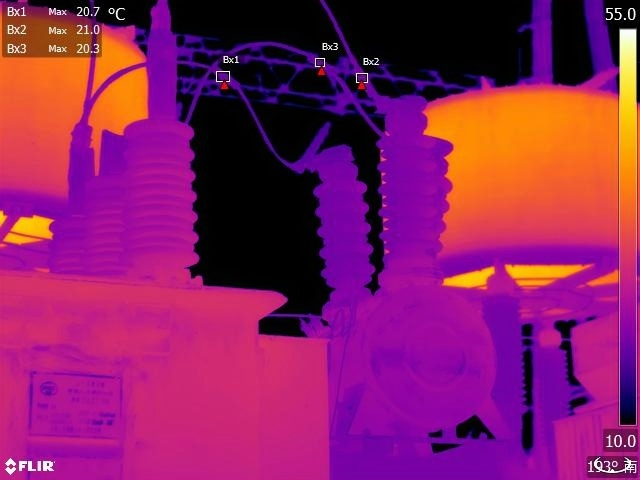capacitor: (416, 70, 640, 295), (1, 19, 161, 221)
post insulator: (480, 293, 529, 420), (529, 323, 567, 454)
tube: (377, 108, 460, 284), (121, 106, 205, 279), (302, 128, 380, 293), (79, 160, 137, 281), (44, 206, 92, 277)
